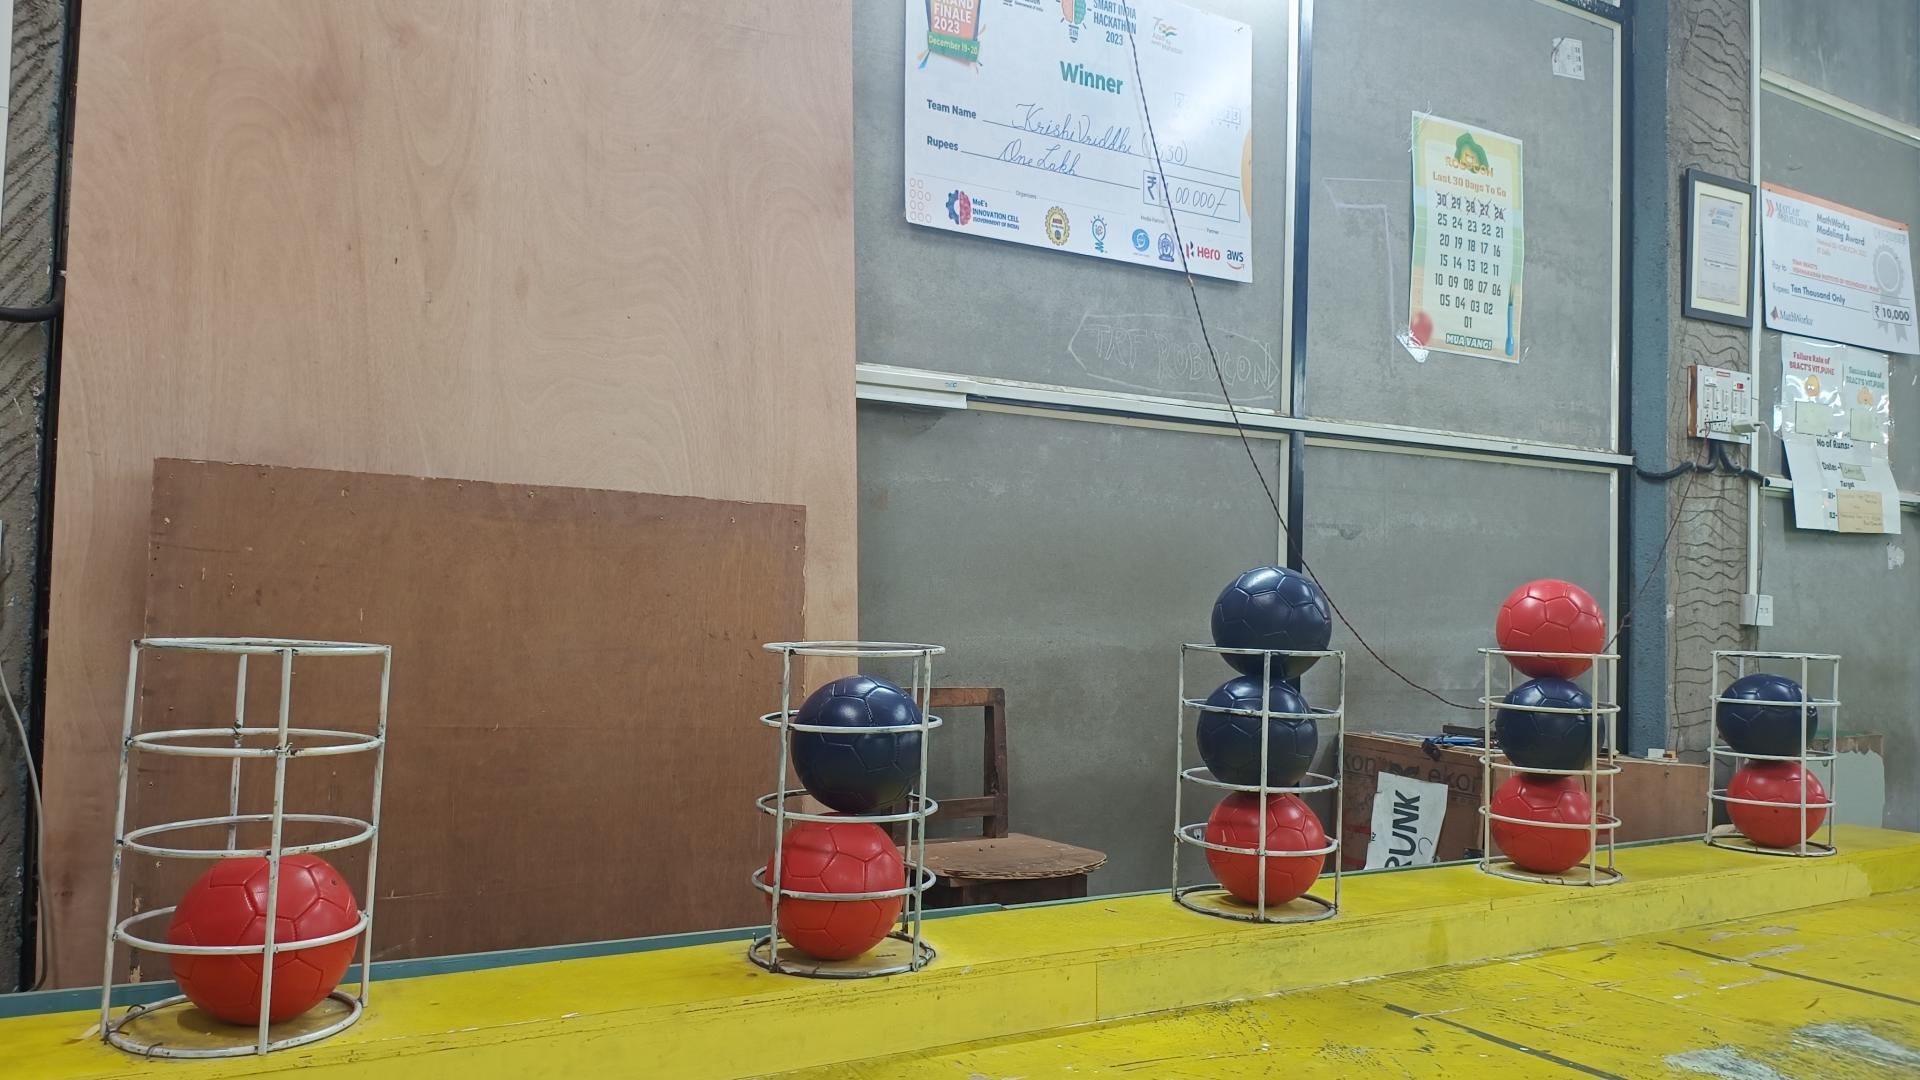dhoka: (791, 675, 923, 814), (1212, 566, 1332, 683), (1196, 675, 1320, 787), (1493, 675, 1605, 773), (1717, 675, 1818, 757)
laale: (165, 855, 360, 1027), (757, 822, 907, 960), (1204, 791, 1328, 907), (1489, 773, 1594, 874), (1497, 582, 1605, 679), (1725, 761, 1830, 848)
